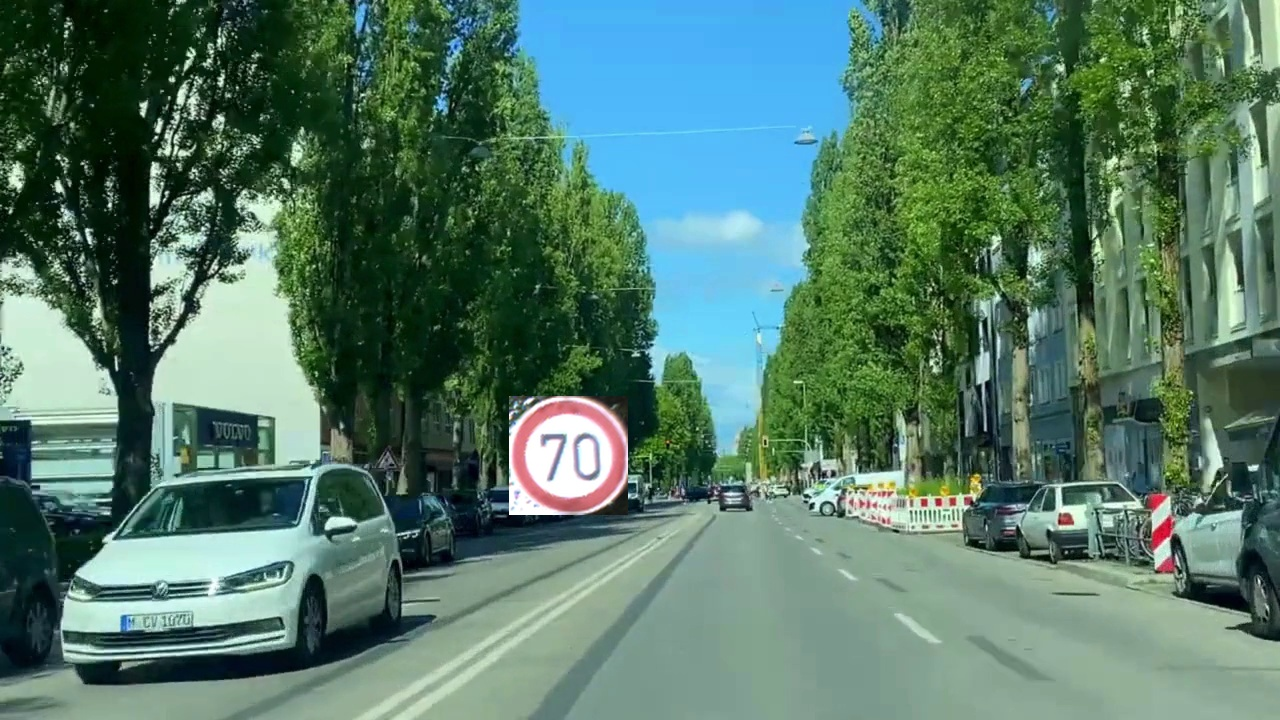Speed 70: (509, 396, 628, 515)
